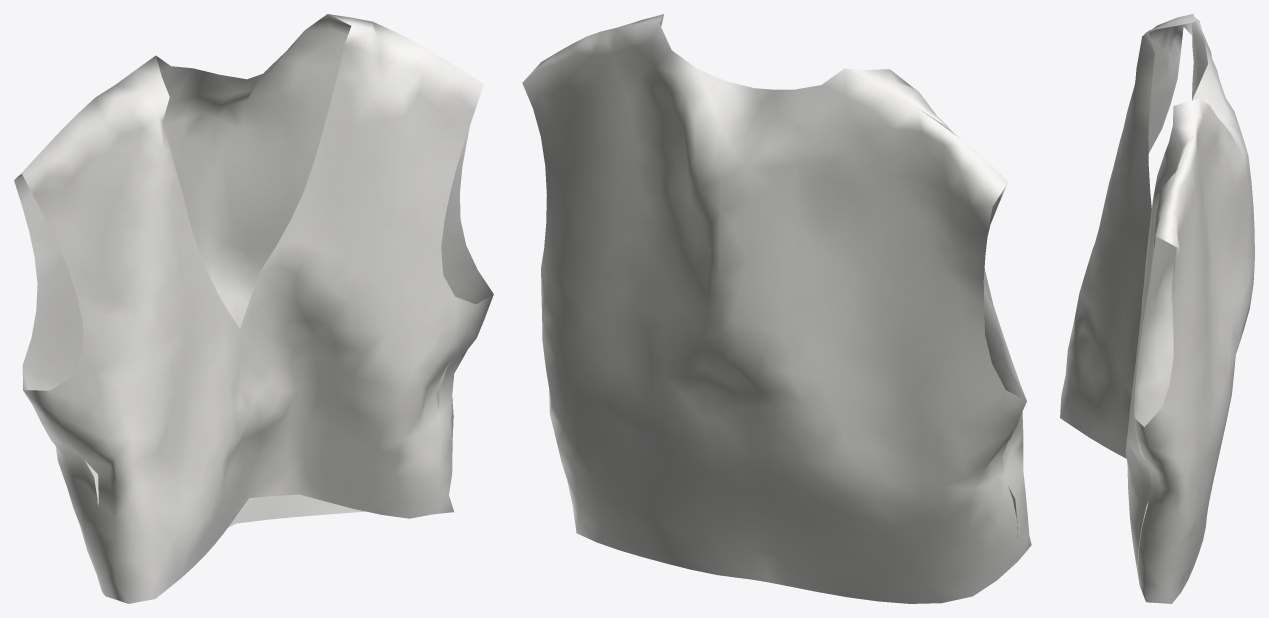
Rendered from top.fbx.
3 renders of one model, left to right at view 1: azimuth 30°, elevation 25°; view 2: azimuth 150°, elevation 25°; view 3: azimuth 270°, elevation 25°, orthographic. The views are drawn at different scales.
Visible parts, largest first — view 1: top; view 2: top; view 3: top.
Part boxes in pixels (<box>): top: <box>14,14,493,603</box>; top: <box>522,14,1031,603</box>; top: <box>1060,14,1254,603</box>.
Size of the model in its own units: 337 by 354 by 134.
